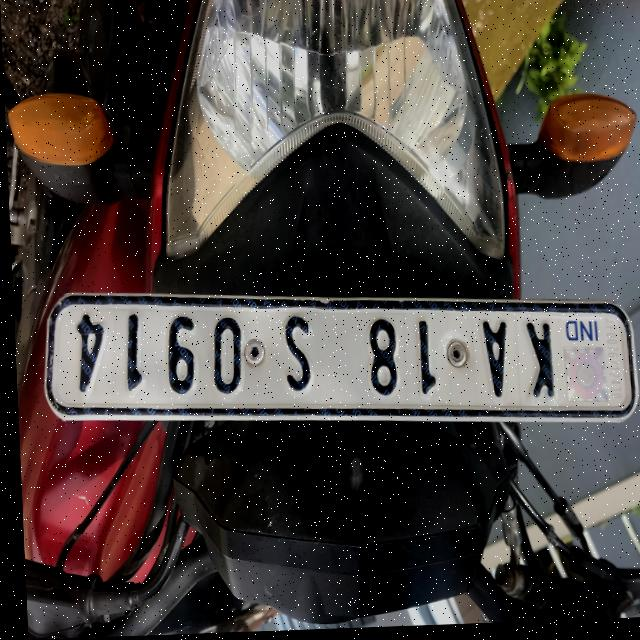plate: (38, 276, 636, 447)
